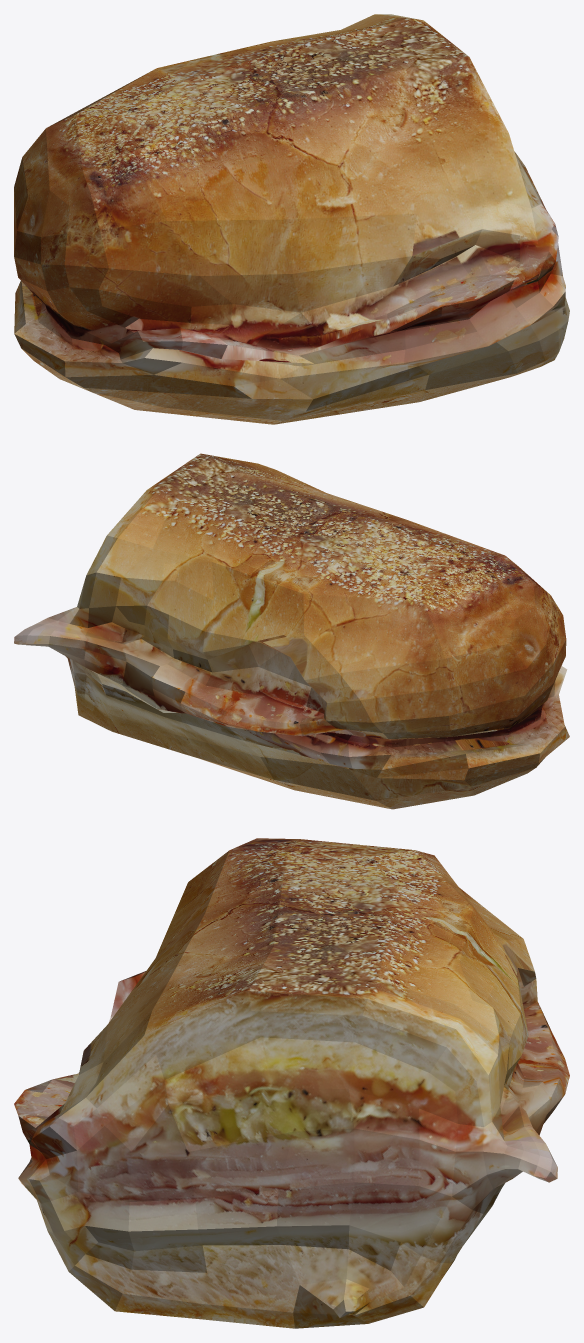
The model's file is italian_sandwich_scan_lowpoly.glb.
3 renders of one model, top to bottom at view 1: azimuth 30°, elevation 25°; view 2: azimuth 150°, elevation 25°; view 3: azimuth 270°, elevation 25°, orthographic. The views are drawn at different scales.
Visible parts, largest first — view 1: Sandwich; view 2: Sandwich; view 3: Sandwich.
Part boxes in pixels (x1=…): Sandwich: x1=14, y1=14, x2=569, y2=424; Sandwich: x1=14, y1=453, x2=569, y2=809; Sandwich: x1=14, y1=838, x2=569, y2=1328.
Size of the model in its own units: 0.4098 by 0.2379 by 0.35.
1 material, 1 textured.
